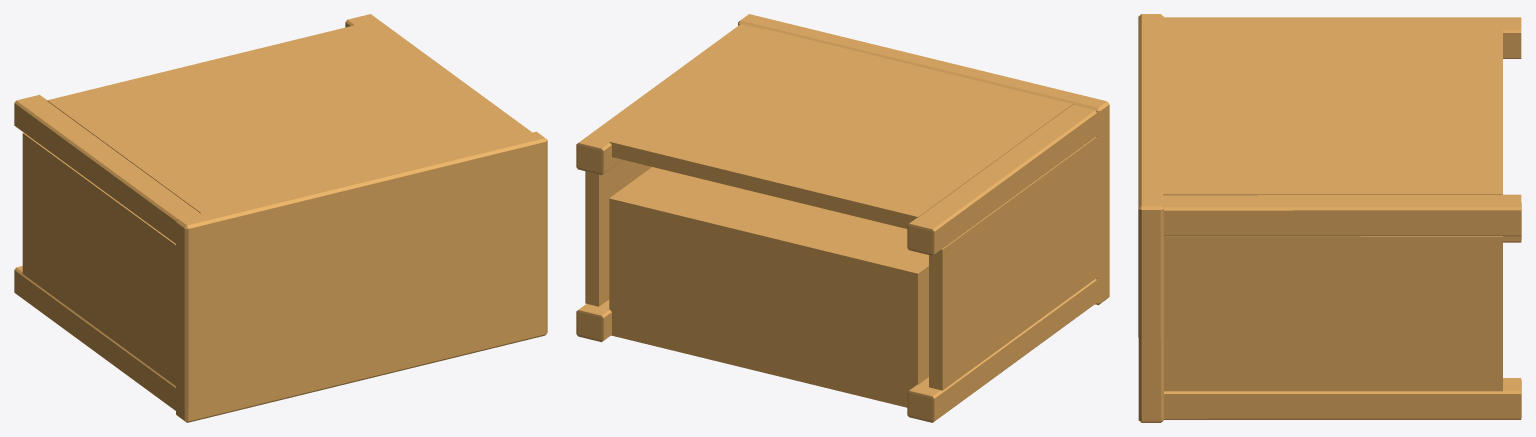
File: NightstandmeshSideTable_306_0.obj
3 views of the same model, side by side, from view 1: azimuth 30°, elevation 25°; view 2: azimuth 150°, elevation 25°; view 3: azimuth 270°, elevation 25° (orthographic). The views are drawn at different scales.
Visible parts, largest first — view 1: SideTable_306; view 2: SideTable_306; view 3: SideTable_306.
Boxes of the visible parts, x1,y1,x2,y2 form: SideTable_306: [14, 14, 547, 422]; SideTable_306: [576, 14, 1109, 422]; SideTable_306: [1138, 14, 1521, 422].
Size of the model in its own units: 0.6152 by 0.3201 by 0.5121.
